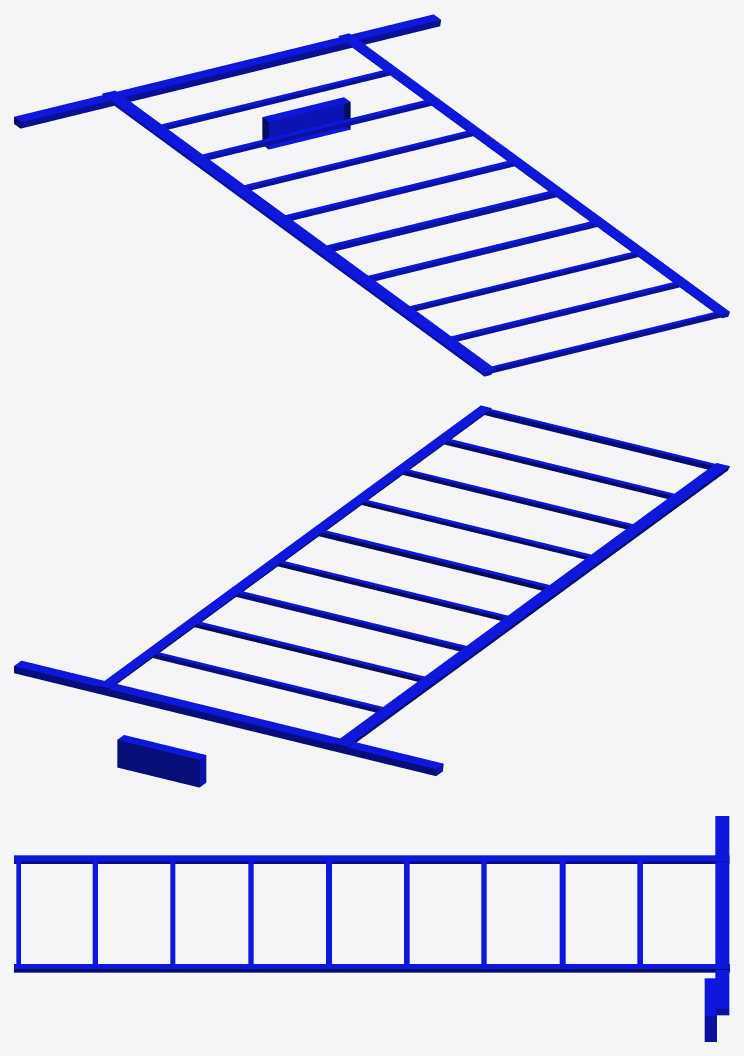
Rendered from Caja_exterior.FBX.
3 views of the same model, one above another, from view 1: azimuth 30°, elevation 25°; view 2: azimuth 150°, elevation 25°; view 3: azimuth 270°, elevation 25° (orthographic). The views are drawn at different scales.
Parts seen in each view (by area): view 1: caja_exterior; view 2: caja_exterior; view 3: caja_exterior.
Boxes of the visible parts, bbox=[...] form: caja_exterior: bbox=[14, 14, 729, 376]; caja_exterior: bbox=[14, 405, 729, 787]; caja_exterior: bbox=[14, 816, 729, 1041].
Size of the model in its own units: 4129 by 785 by 6485.
